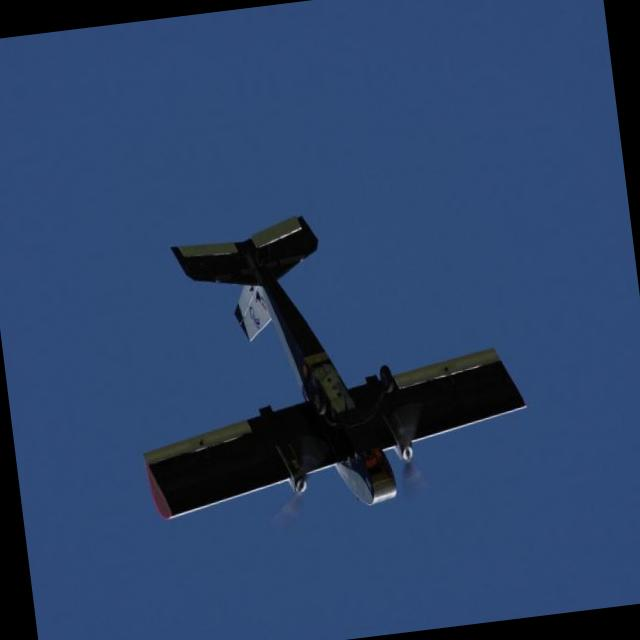UAV: (168, 286, 491, 544)
